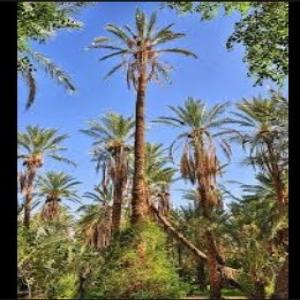palm tree: (149, 96, 243, 298), (78, 111, 141, 238)
